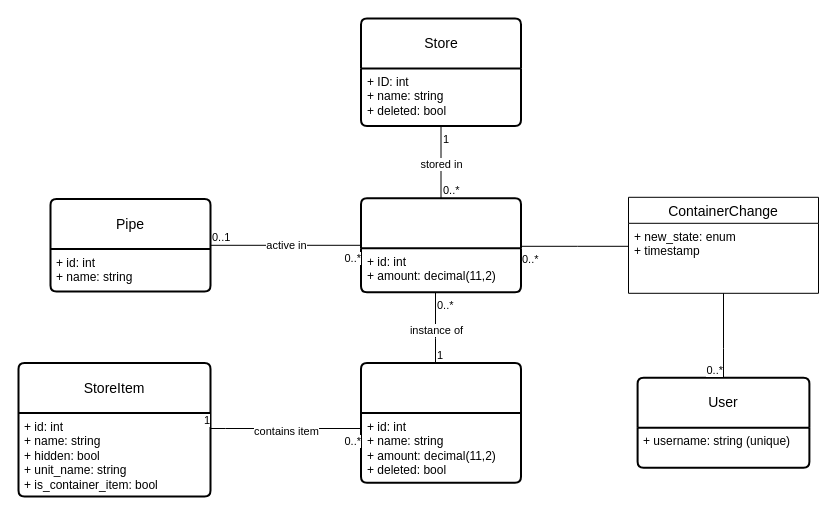
The diagram is 836 pixels wide and 514 high, and some of its shapes have lost their labels. The box of each missing label's shape, as (x1, y1, x2, y2) in pixels:
Container: (360, 197, 522, 293)
ContainerTemplate: (360, 362, 522, 483)
